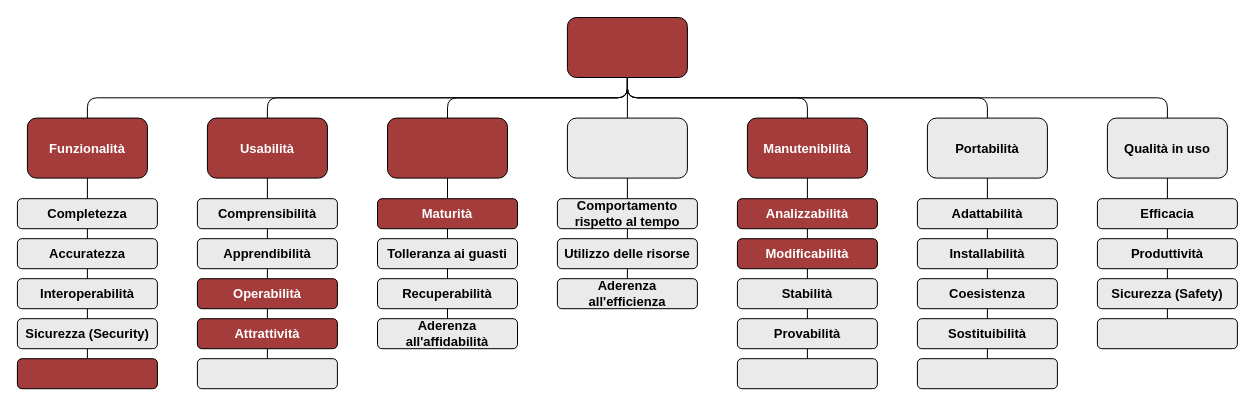
This 1255x407 diagram has some shape labels left out. The centre of each missing label's shape, as x and y in pixels:
"Aderenza all'usabilità" belongs at point 266,373.
"Aderenza alla funzionalità" belongs at point 86,373.
"Aderenza alla manutenibilità" belongs at point 806,373.
"Aderenza alla portabilità" belongs at point 986,373.
"Affidabilità" belongs at point 447,147.
"Efficienza" belongs at point 626,147.
"ISO/IEC 9126" belongs at point 626,47.
"Soddisfazione" belongs at point 1166,333.
